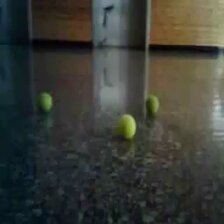tennis: (116, 114, 137, 141), (38, 92, 53, 115), (145, 95, 159, 118)
